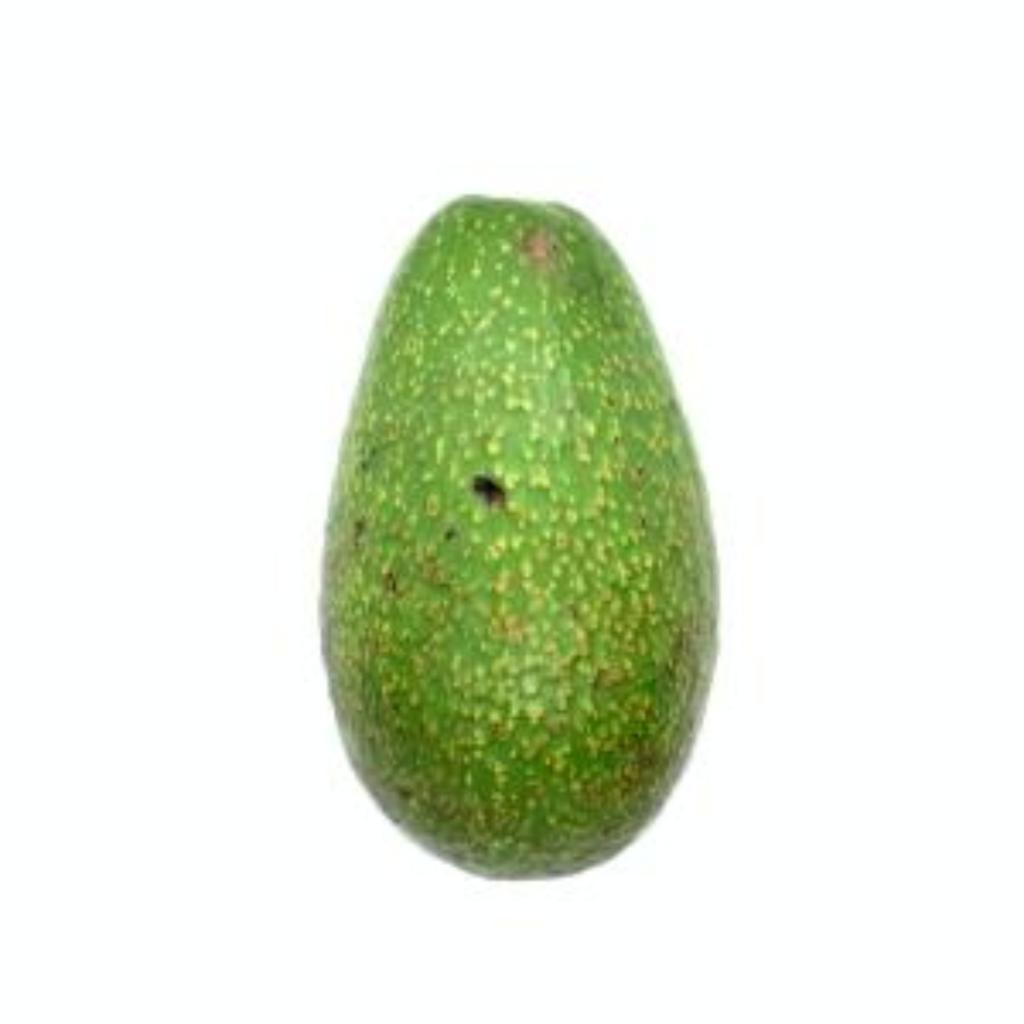cercospora_spot: (322, 184, 736, 894)
